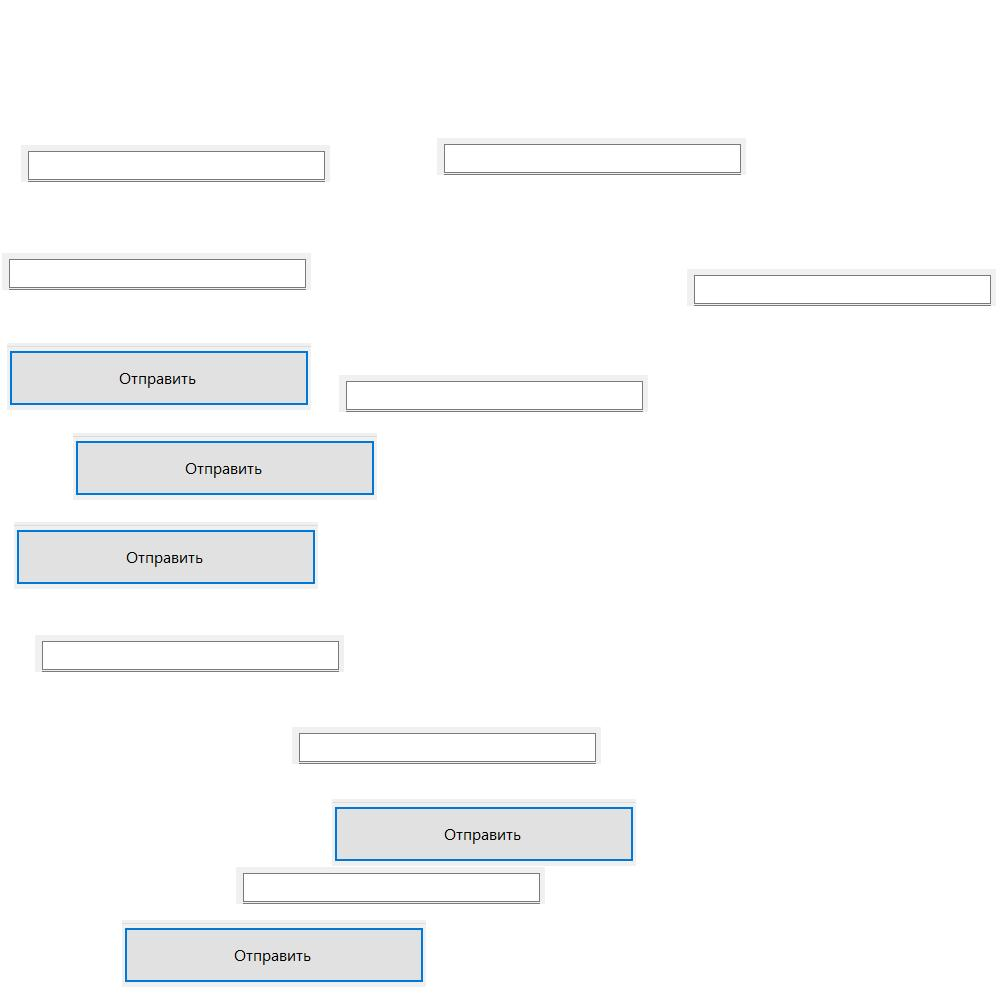Button: (122, 920, 426, 987), (14, 522, 318, 589), (73, 433, 377, 500), (7, 343, 311, 410), (332, 799, 636, 866)
EditText-: (35, 635, 344, 672), (21, 145, 330, 182), (2, 253, 311, 290), (339, 375, 648, 412), (236, 867, 545, 904), (437, 138, 746, 175), (292, 727, 601, 764), (687, 269, 996, 306)
